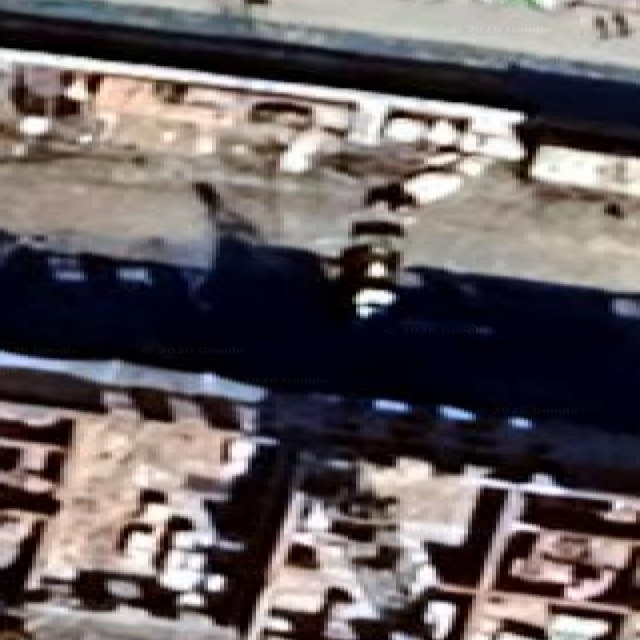car: (340, 220, 404, 318)
